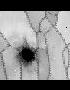good_void: (14, 38, 39, 67)
